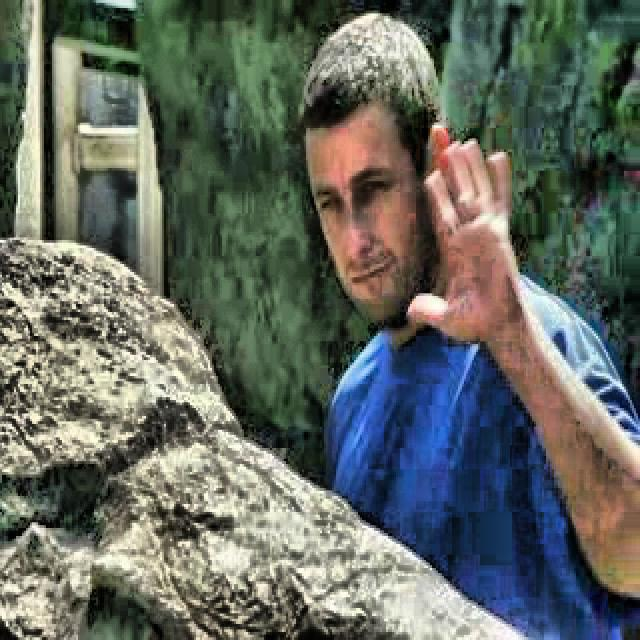L: (288, 2, 640, 640)
